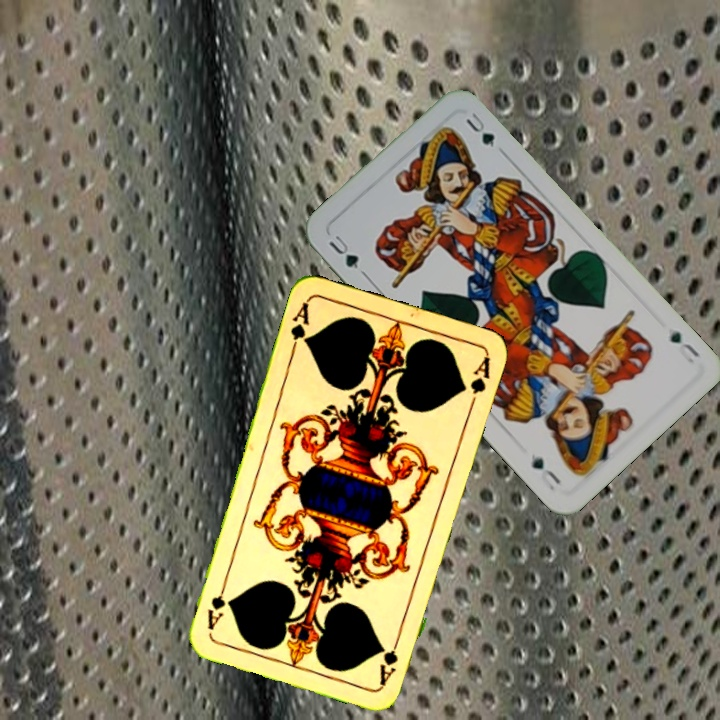GA: (375, 630, 404, 688), (286, 298, 312, 356)
GU: (324, 231, 361, 272), (666, 327, 702, 366)
